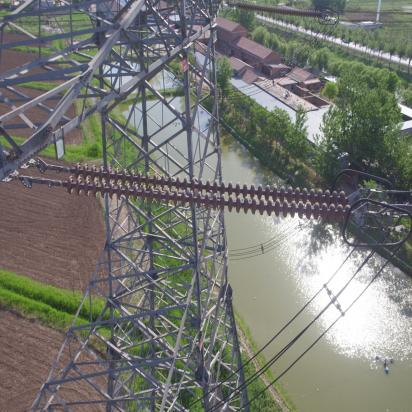insulator: (54, 162, 358, 224), (231, 1, 324, 20)
